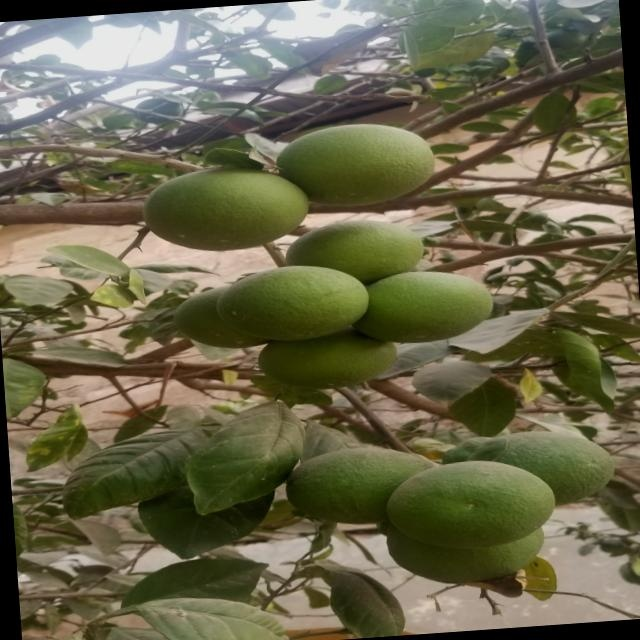agrume: (126, 151, 322, 259), (376, 452, 558, 556), (280, 116, 436, 215), (452, 422, 605, 518), (212, 261, 364, 347), (283, 210, 454, 285), (362, 259, 495, 350), (230, 331, 403, 397), (394, 525, 551, 595), (236, 348, 248, 357)
